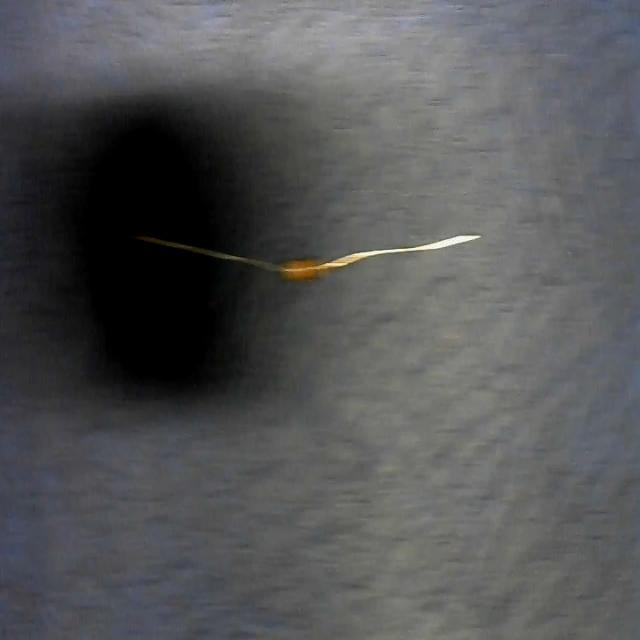resistor: (147, 232, 466, 278)
